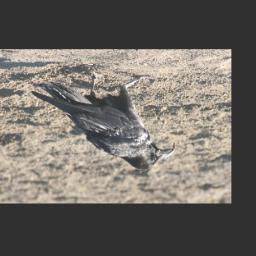Crow: (30, 67, 176, 171)
